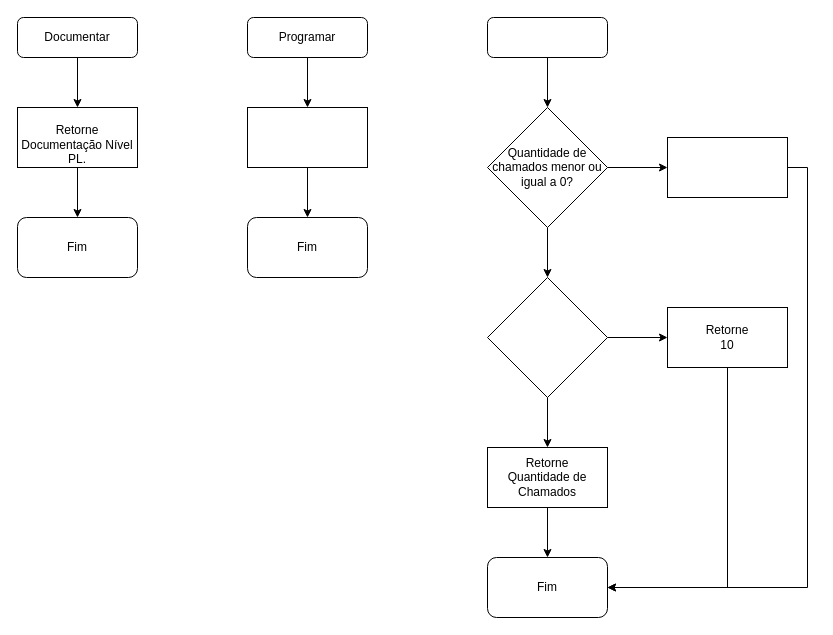
The diagram is 833 pixels wide and 635 high, and some of its shapes have lost their labels. Each missing label, with the centre of its shape:
"Quantidade de chamados maior ou igual a 10?" goes at (x=547, y=337).
"Resolver Chamados" goes at (x=547, y=37).
"Retorne 0" goes at (x=727, y=167).
"Retorne Programação Nível PL." goes at (x=307, y=137).
